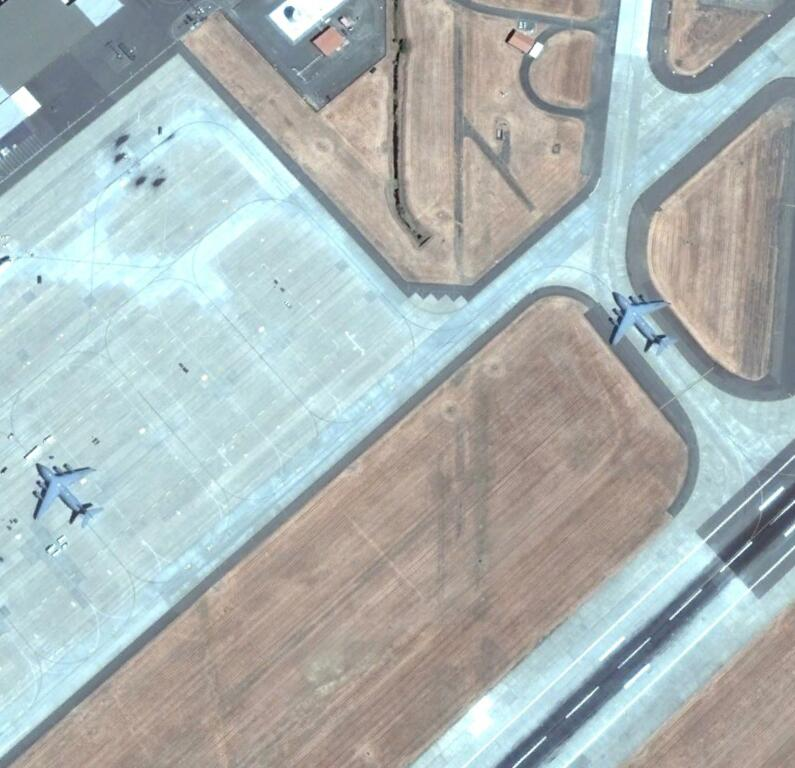A3: (606, 286, 676, 356), (29, 460, 97, 525)
